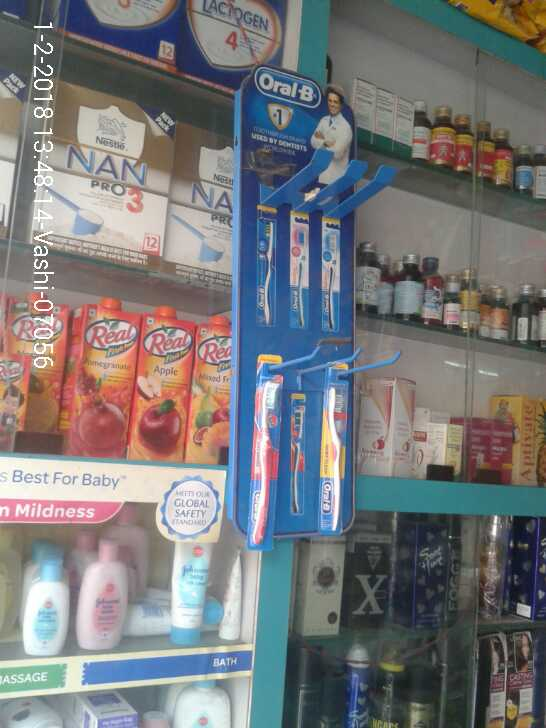oralb: (325, 380, 349, 540), (255, 384, 277, 552)
